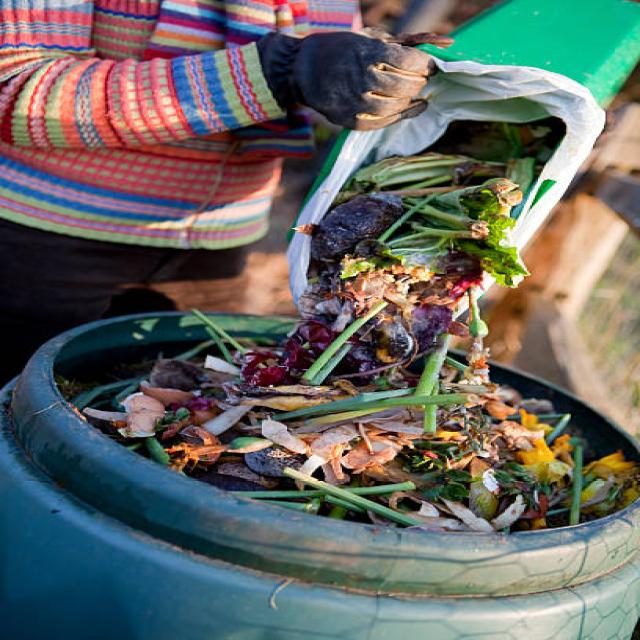trash: (193, 128, 543, 494)
